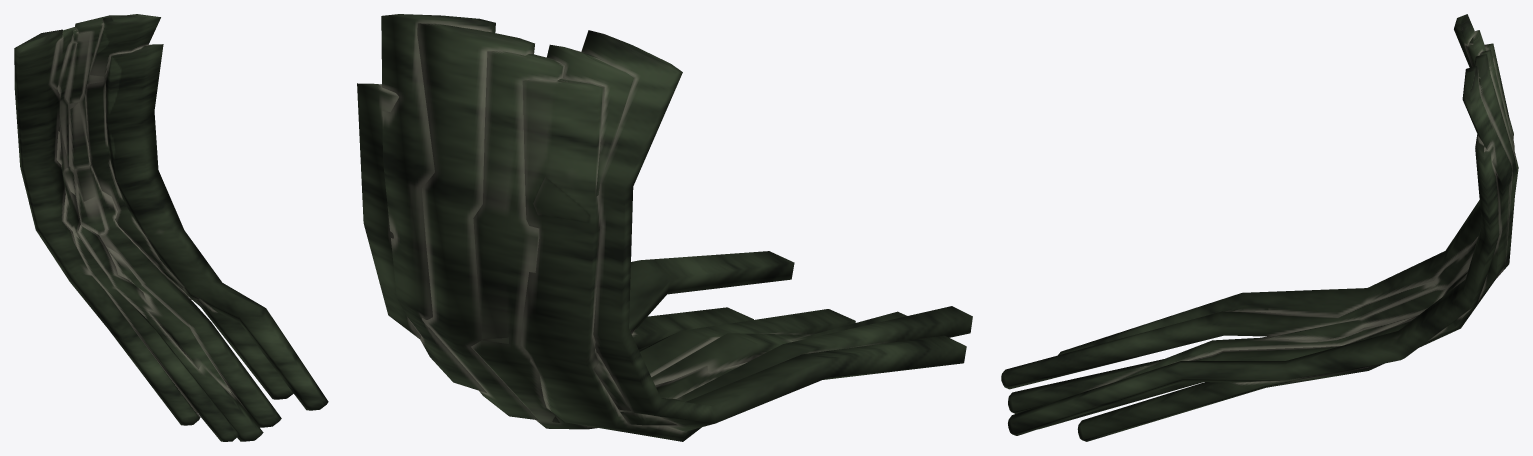
The model's file is Prop_TrollHair.fbx.
The picture shows the model from 3 angles, left to right: view 1: azimuth 30°, elevation 25°; view 2: azimuth 150°, elevation 25°; view 3: azimuth 270°, elevation 25°; orthographic projection. The views are drawn at different scales.
Parts seen in each view (by area): view 1: Prop_TrollHair; view 2: Prop_TrollHair; view 3: Prop_TrollHair.
Boxes of the visible parts, bbox=[...] form: Prop_TrollHair: bbox=[14, 14, 328, 441]; Prop_TrollHair: bbox=[357, 14, 972, 441]; Prop_TrollHair: bbox=[1001, 14, 1518, 441].
Size of the model in its own units: 0.1915 by 0.3387 by 0.4278.
